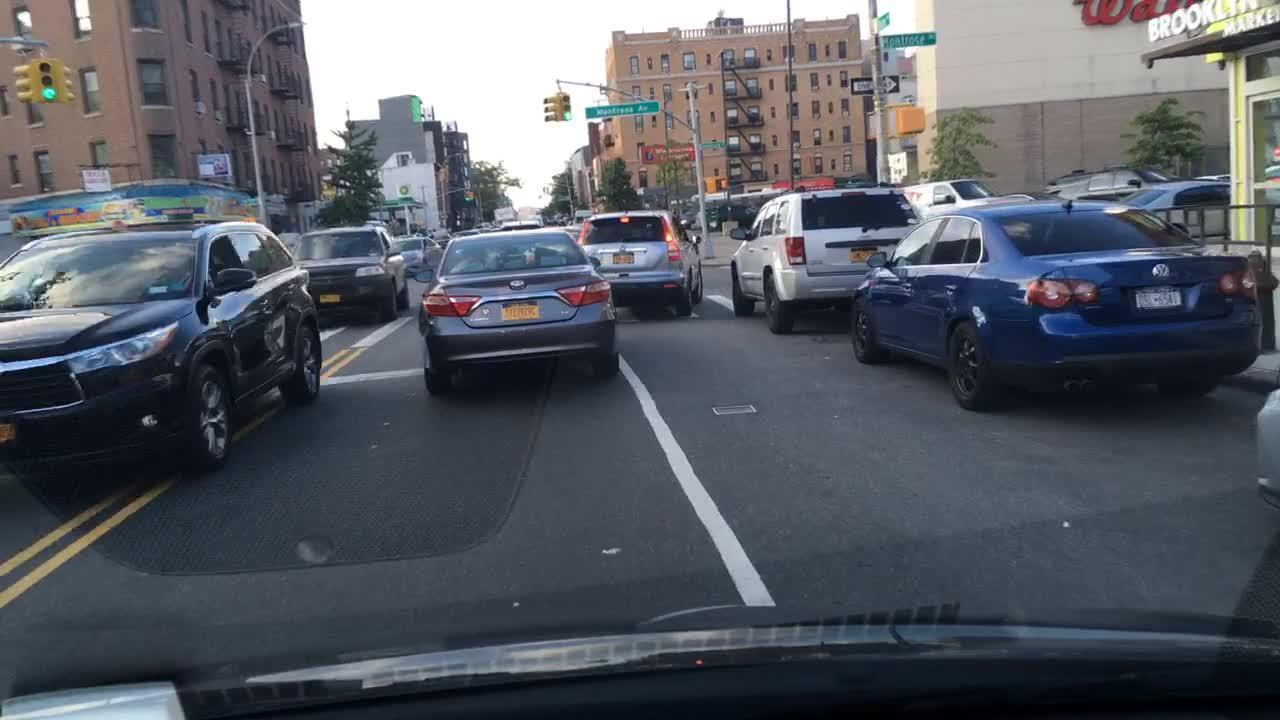Toyota: (500, 274, 537, 294)
Volkswagen: (1145, 258, 1175, 285)
